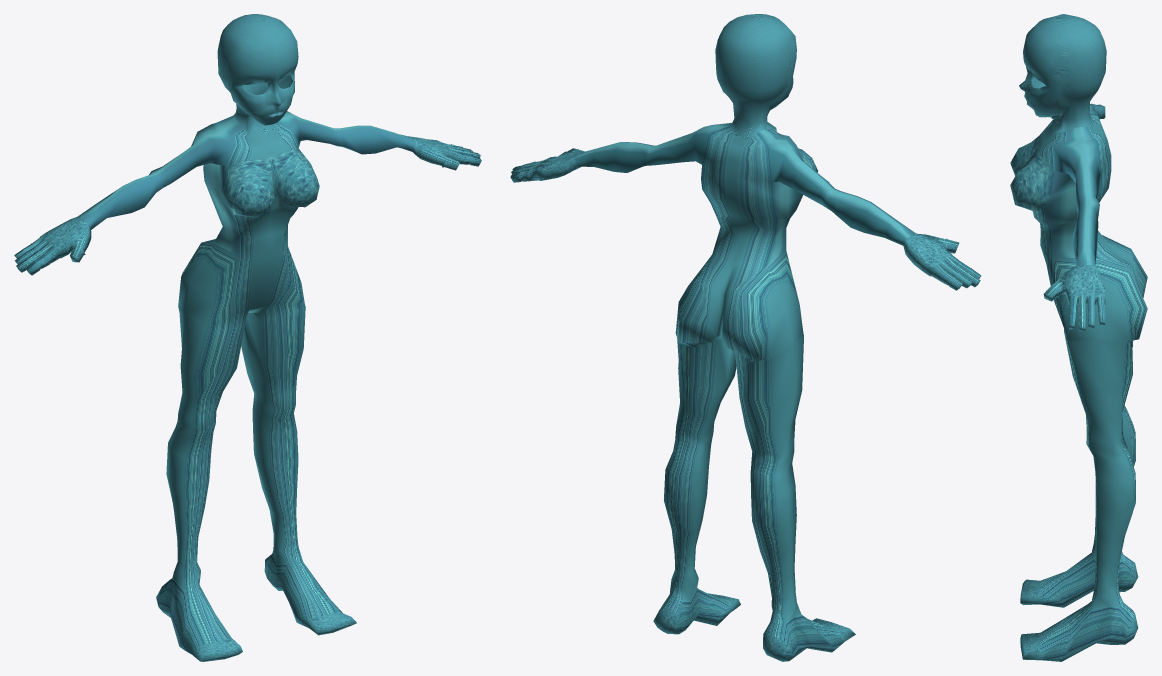
Rendered from puentea.DAE.
3 renders of one model, left to right at view 1: azimuth 30°, elevation 25°; view 2: azimuth 150°, elevation 25°; view 3: azimuth 270°, elevation 25°, orthographic.
Parts seen in each view (by area): view 1: Bimbo; view 2: Bimbo; view 3: Bimbo.
Boxes of the visible parts, x1,y1,x2,y2 form: Bimbo: (14, 14, 481, 661); Bimbo: (510, 14, 981, 661); Bimbo: (1010, 14, 1147, 661).
Size of the model in its own units: 90 by 23.42 by 114.
Materials: 1 (1 with a texture image).
